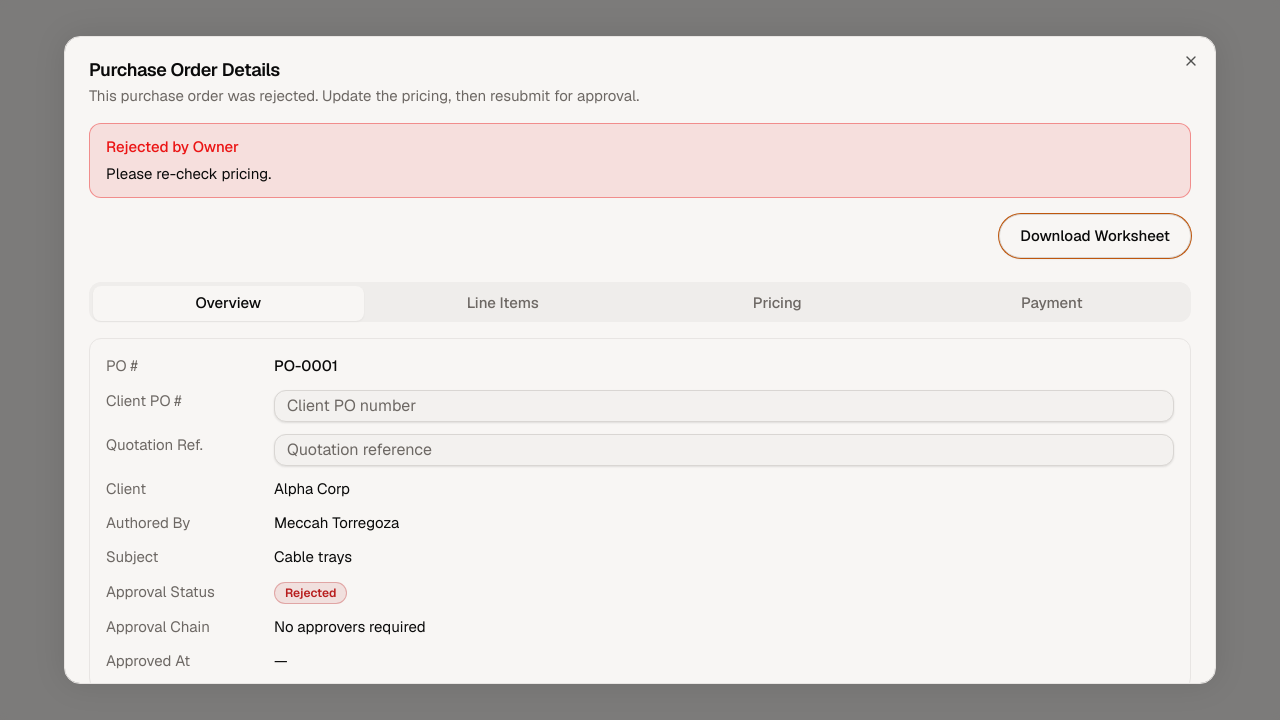
Test: PurchaseOrderDetailsDialog sales pricing defaults › defaults a rejected/unpriced PO's Margin % to 25 while Bank % and SOP % stay blank
Note: Pricing fields live in the "Pricing" tab, not rendered until selected.
What coordinates should you click on to do the following:
click the tab "Pricing"
I would click on:
 (777, 303)
Its box is [642,286,912,321].
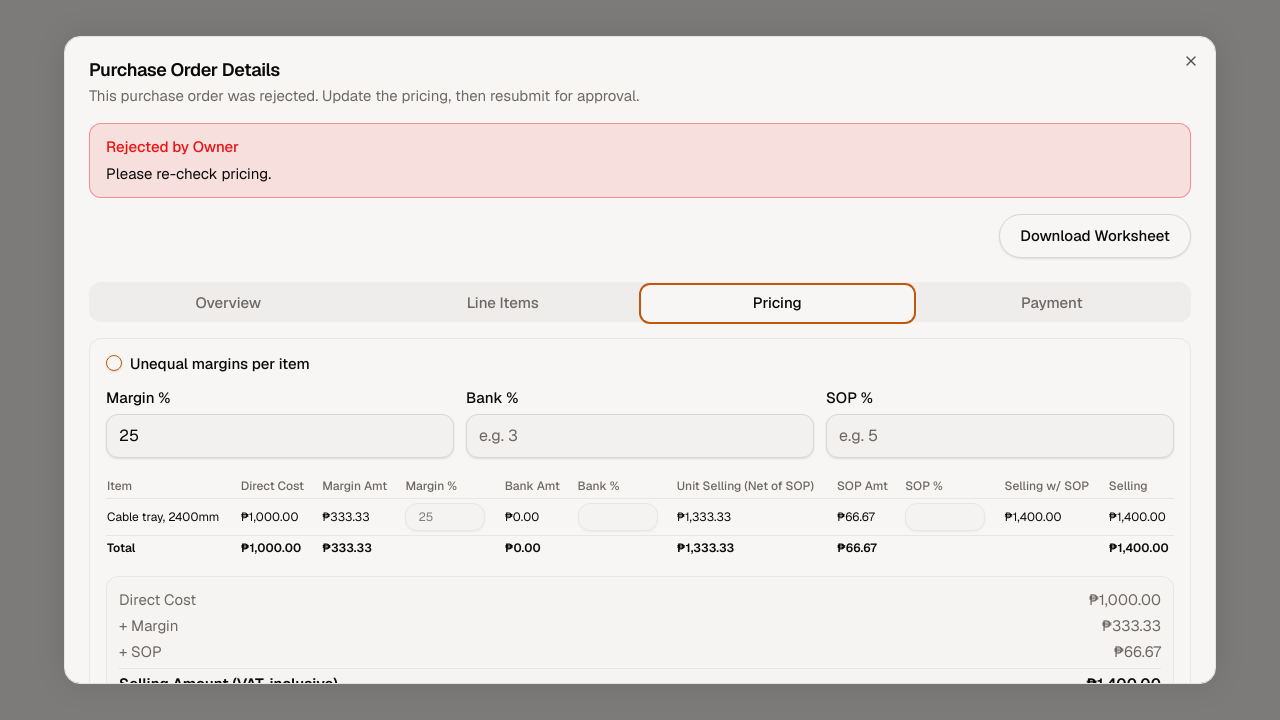
Expected: the field labelled "Margin %" holds "25", [106,414,454,458]
Expected: the field labelled "Bank %" is empty, [466,414,814,458]
Expected: the field labelled "SOP %" is empty, [826,414,1174,458]
